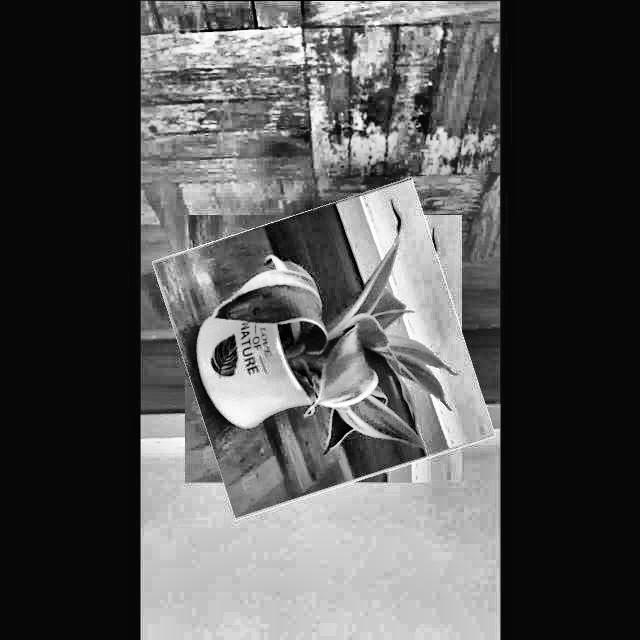plants: (169, 195, 477, 502)
